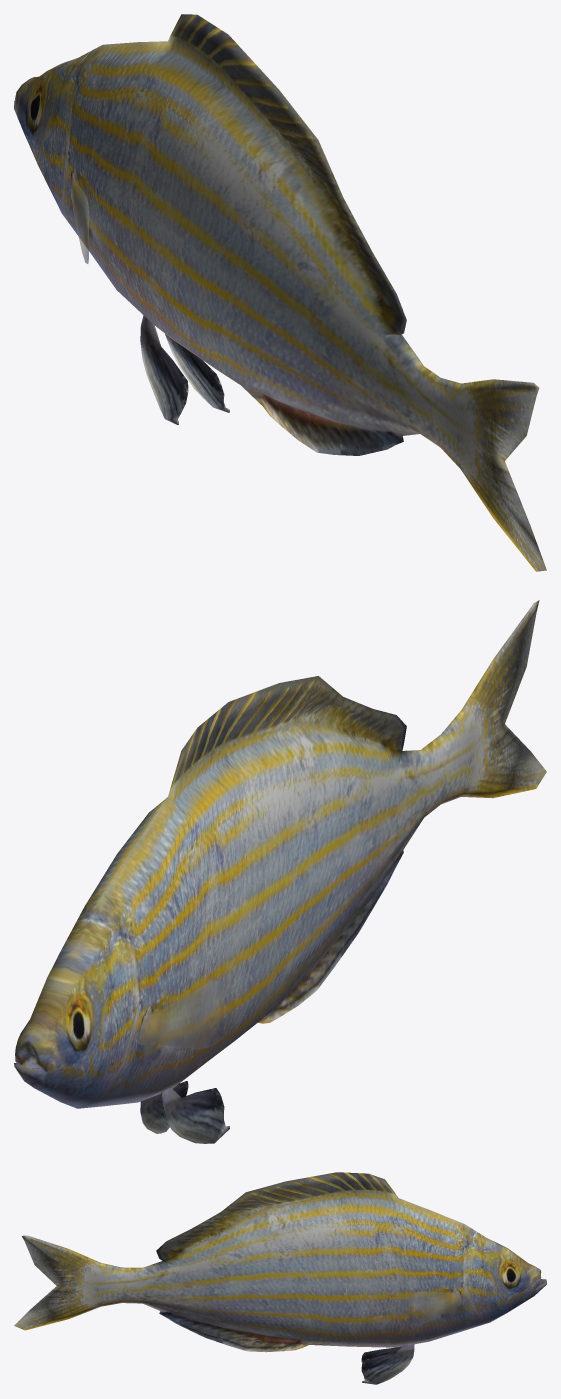
Rendered from SalpaV2.glb.
3 renders of one model, top to bottom at view 1: azimuth 30°, elevation 25°; view 2: azimuth 150°, elevation 25°; view 3: azimuth 270°, elevation 25°, orthographic. The views are drawn at different scales.
Parts seen in each view (by area): view 1: Salpa, PinneInferiori, PinneLaterali; view 2: Salpa, PinneLaterali, PinneInferiori; view 3: Salpa, PinneInferiori, PinneLaterali.
Part boxes in pixels (x1,y1,x2,y2): Salpa: [14, 14, 546, 571]; PinneInferiori: [140, 315, 229, 424]; PinneLaterali: [71, 173, 89, 263]; Salpa: [14, 600, 546, 1108]; PinneLaterali: [137, 980, 224, 1049]; PinneInferiori: [140, 1081, 229, 1143]; Salpa: [14, 1172, 546, 1352]; PinneInferiori: [361, 1343, 414, 1384]; PinneLaterali: [408, 1291, 463, 1325].
Size of the model in its own units: 1.86 by 5.25 by 12.28.
Materials: 2 (2 with a texture image).
